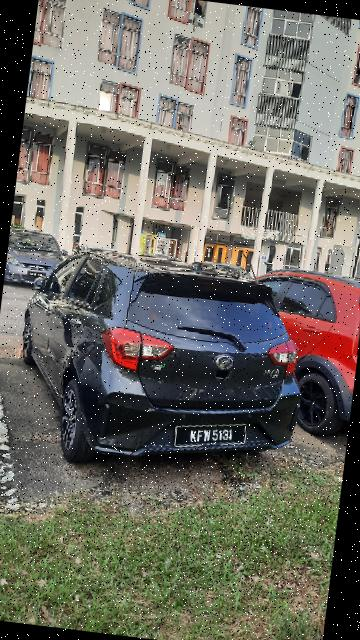License_Plate: (166, 413, 251, 455)
car: (3, 230, 360, 499)
